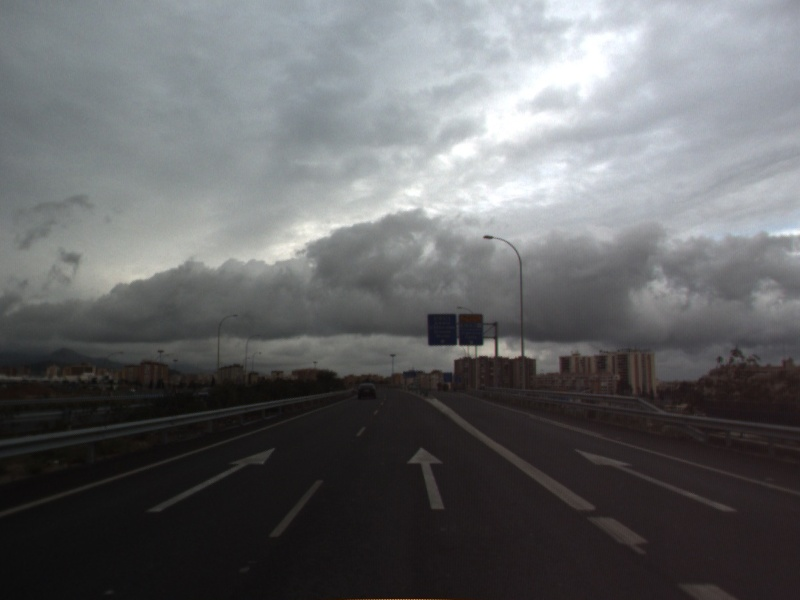STRAIGHT: (573, 447, 740, 514), (144, 445, 278, 514), (404, 445, 447, 511)
